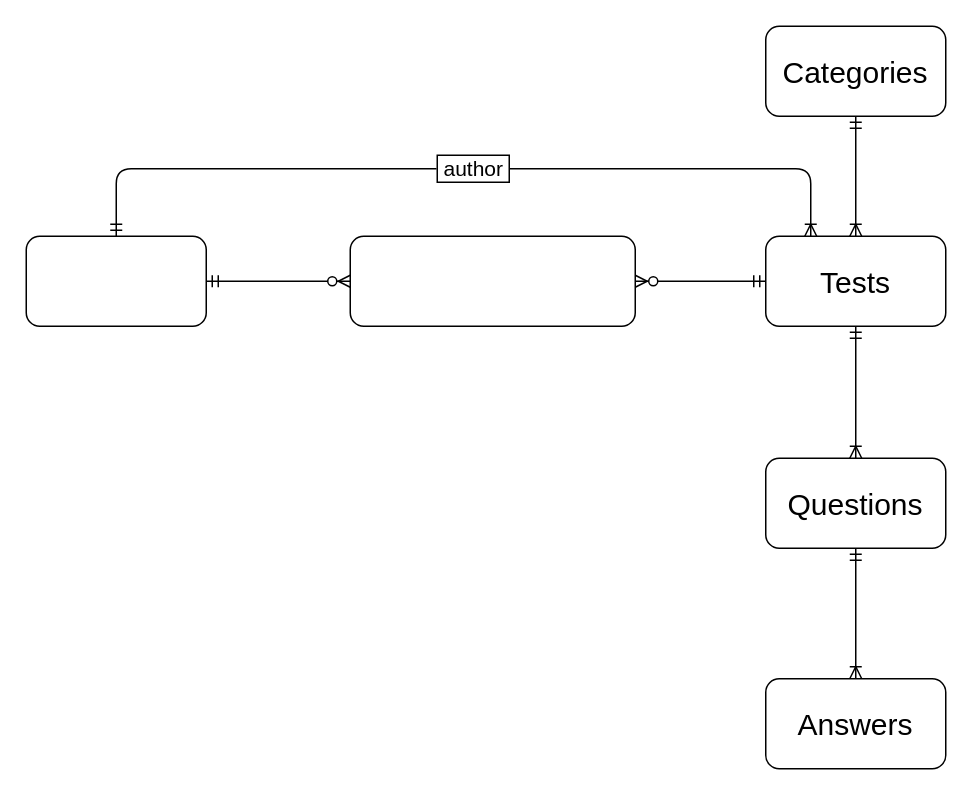
Image size: 972x795. Some labels were removed from this diagram. The shapes that lost their labels are listed below. From the top down, each one's box as (x1, y1, x2, y2) in pixels, then its label:
(25, 235, 206, 326): Users
(349, 235, 635, 326): PassingTests
